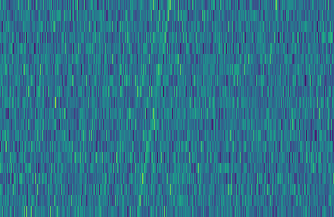signal: (133, 0, 174, 217)
